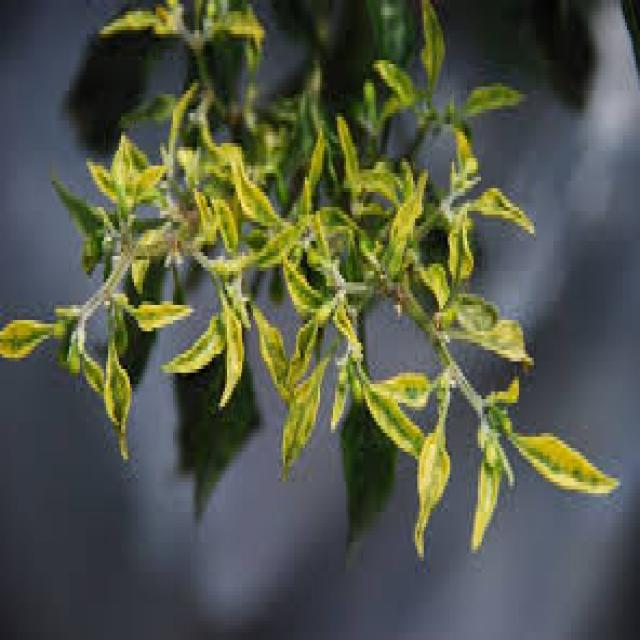virus_kuning: (513, 413, 619, 508), (410, 424, 456, 563), (468, 447, 514, 552), (212, 290, 248, 413)
